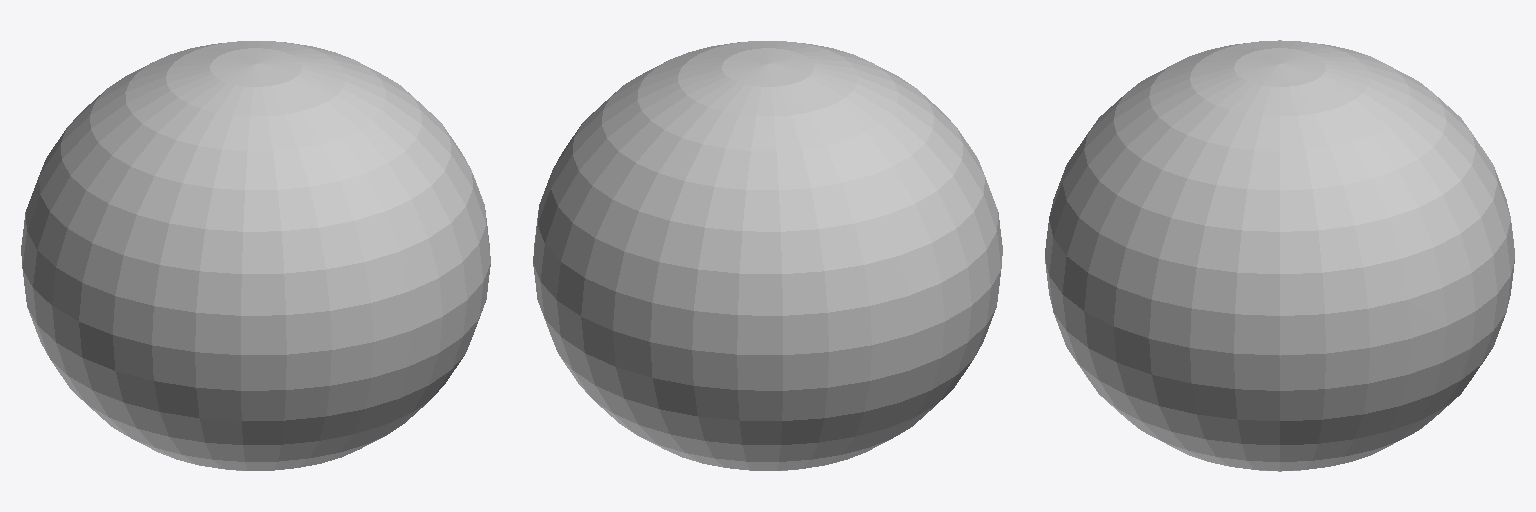
Rendered from saturn.obj.
3 views of the same model, side by side, from view 1: azimuth 30°, elevation 25°; view 2: azimuth 150°, elevation 25°; view 3: azimuth 270°, elevation 25° (orthographic).
Visible parts, largest first — view 1: Mesh.001_Mesh_Sphere; view 2: Mesh.001_Mesh_Sphere; view 3: Mesh.001_Mesh_Sphere.
Boxes of the visible parts, box(x1,y1,x2,y2) form: Mesh.001_Mesh_Sphere: box(21, 41, 490, 470); Mesh.001_Mesh_Sphere: box(533, 41, 1002, 470); Mesh.001_Mesh_Sphere: box(1045, 40, 1514, 471).
Bounding box in the file's own units: 2 × 1.8 × 2.